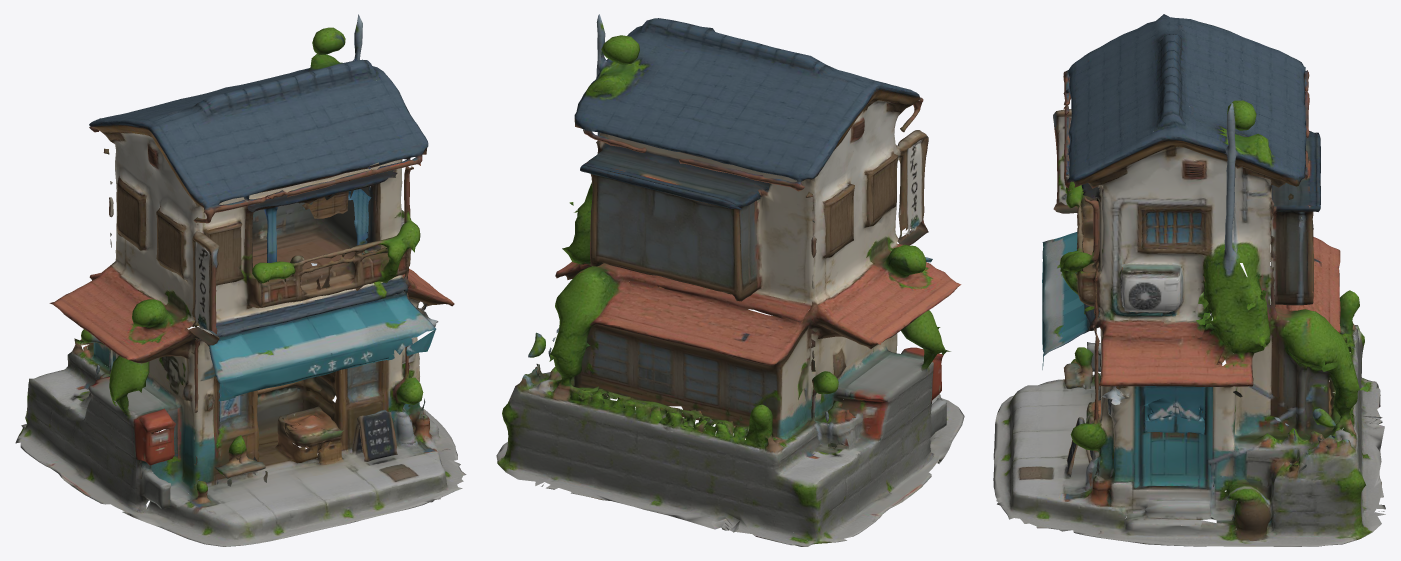
File: building17.glb
The picture shows the model from 3 angles, left to right: view 1: azimuth 30°, elevation 25°; view 2: azimuth 150°, elevation 25°; view 3: azimuth 270°, elevation 25°; orthographic projection. The views are drawn at different scales.
Parts seen in each view (by area): view 1: tripo_node_1818c3a9; view 2: tripo_node_1818c3a9; view 3: tripo_node_1818c3a9.
Boxes of the visible parts, bbox=[...] form: tripo_node_1818c3a9: bbox=[15, 14, 466, 546]; tripo_node_1818c3a9: bbox=[496, 14, 964, 546]; tripo_node_1818c3a9: bbox=[993, 14, 1385, 546].
Size of the model in its own units: 90.41 by 99.46 by 84.72.
1 material, 1 textured.
